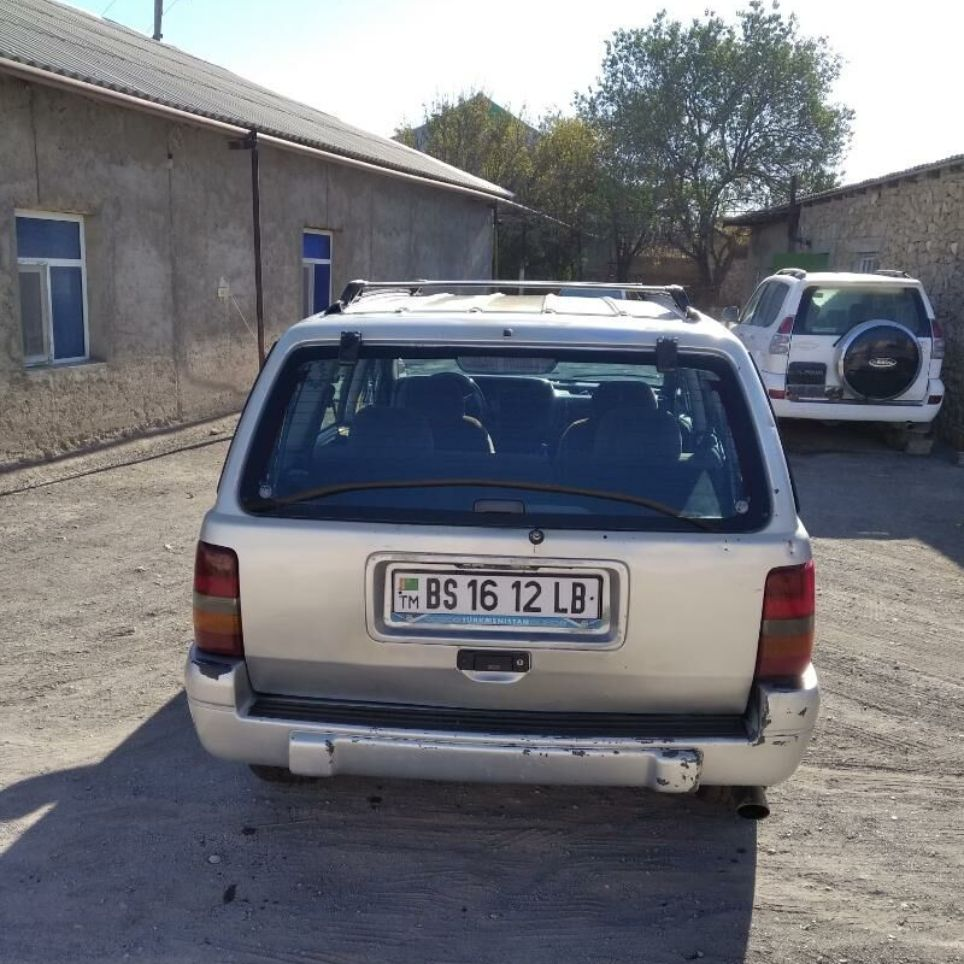license plate: (387, 571, 608, 626)
truck: (170, 269, 840, 827)
